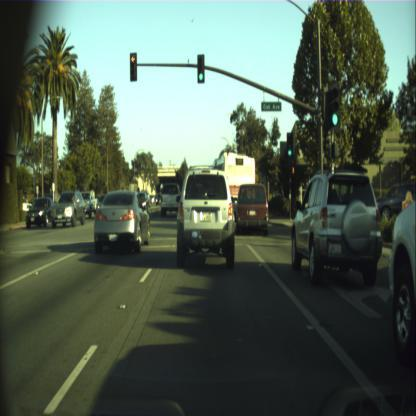Green: (329, 83, 339, 129), (196, 54, 204, 83), (286, 132, 293, 160)
RedLeft: (129, 52, 137, 80)
